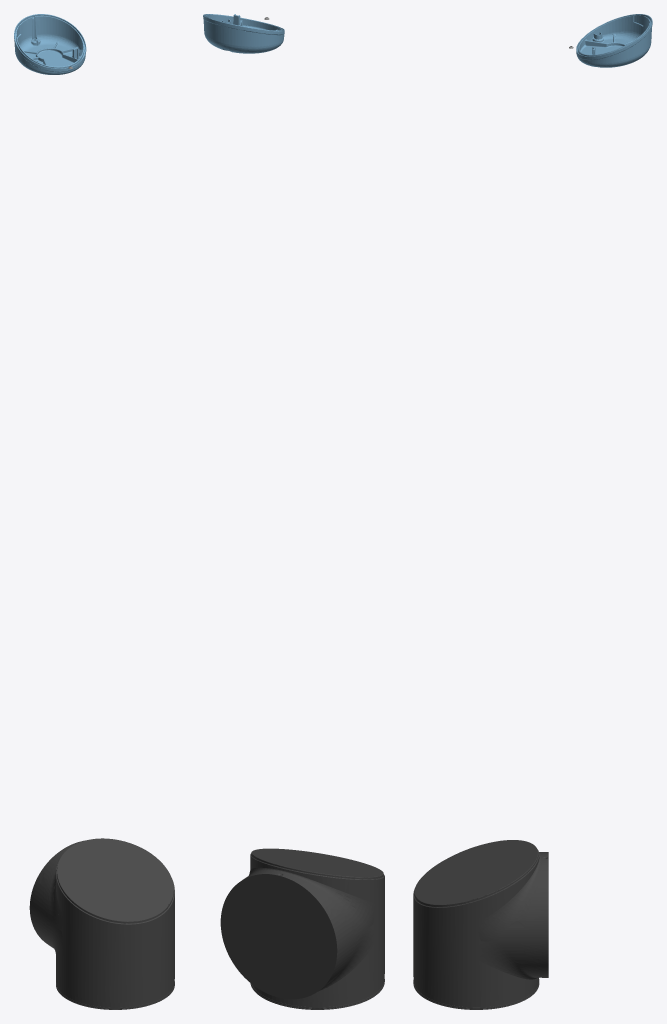
Rendered from Shoulder.dae.
The picture shows the model from 3 angles, left to right: view 1: azimuth 30°, elevation 25°; view 2: azimuth 150°, elevation 25°; view 3: azimuth 270°, elevation 25°; orthographic projection. The views are drawn at different scales.
Visible parts, largest first — view 1: node-shape0-name, node-shape1-name; view 2: node-shape0-name, node-shape1-name; view 3: node-shape0-name, node-shape1-name.
Part boxes in pixels (<box>): node-shape0-name: <box>29,838,174,1009</box>; node-shape1-name: <box>14,14,86,74</box>; node-shape0-name: <box>220,848,384,1009</box>; node-shape1-name: <box>203,14,284,53</box>; node-shape0-name: <box>413,840,548,1009</box>; node-shape1-name: <box>576,14,652,67</box>.
Size of the model in its own units: 150 by 1264 by 285.
